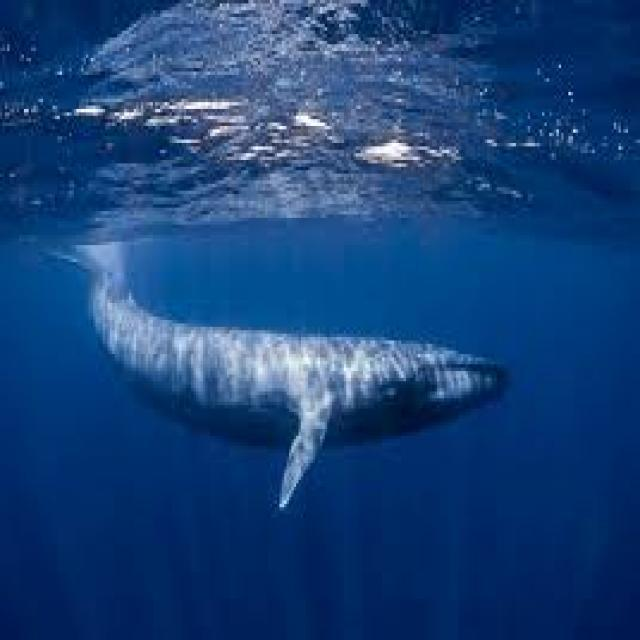blue_whale: (57, 211, 528, 555)
